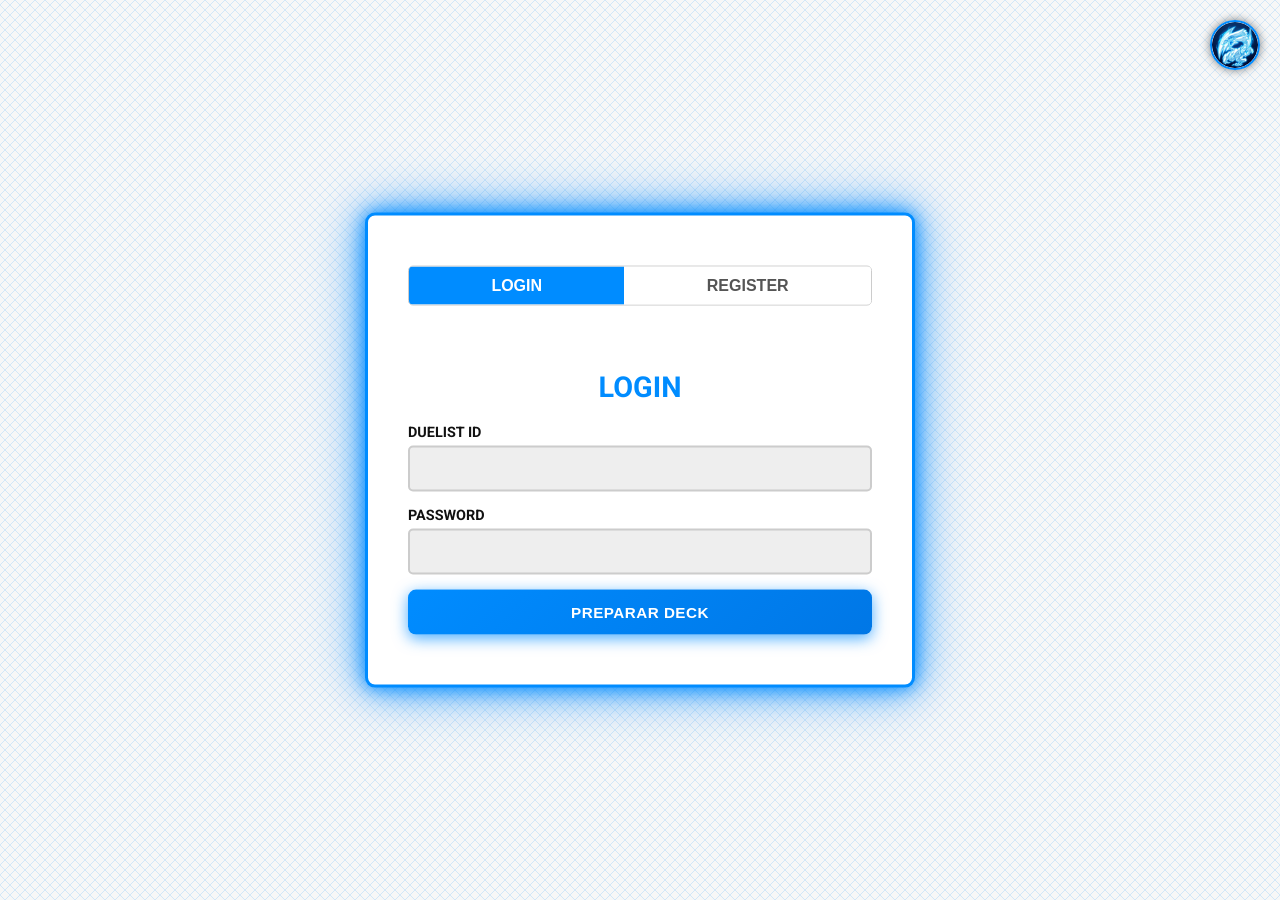
Scenario: AuthPage Component › deve validar senha mínima no registro
The width and height of the screenshot is (1280, 900).
Click the button "REGISTER": (748, 286) x1=624 y1=267 x2=871 y2=305
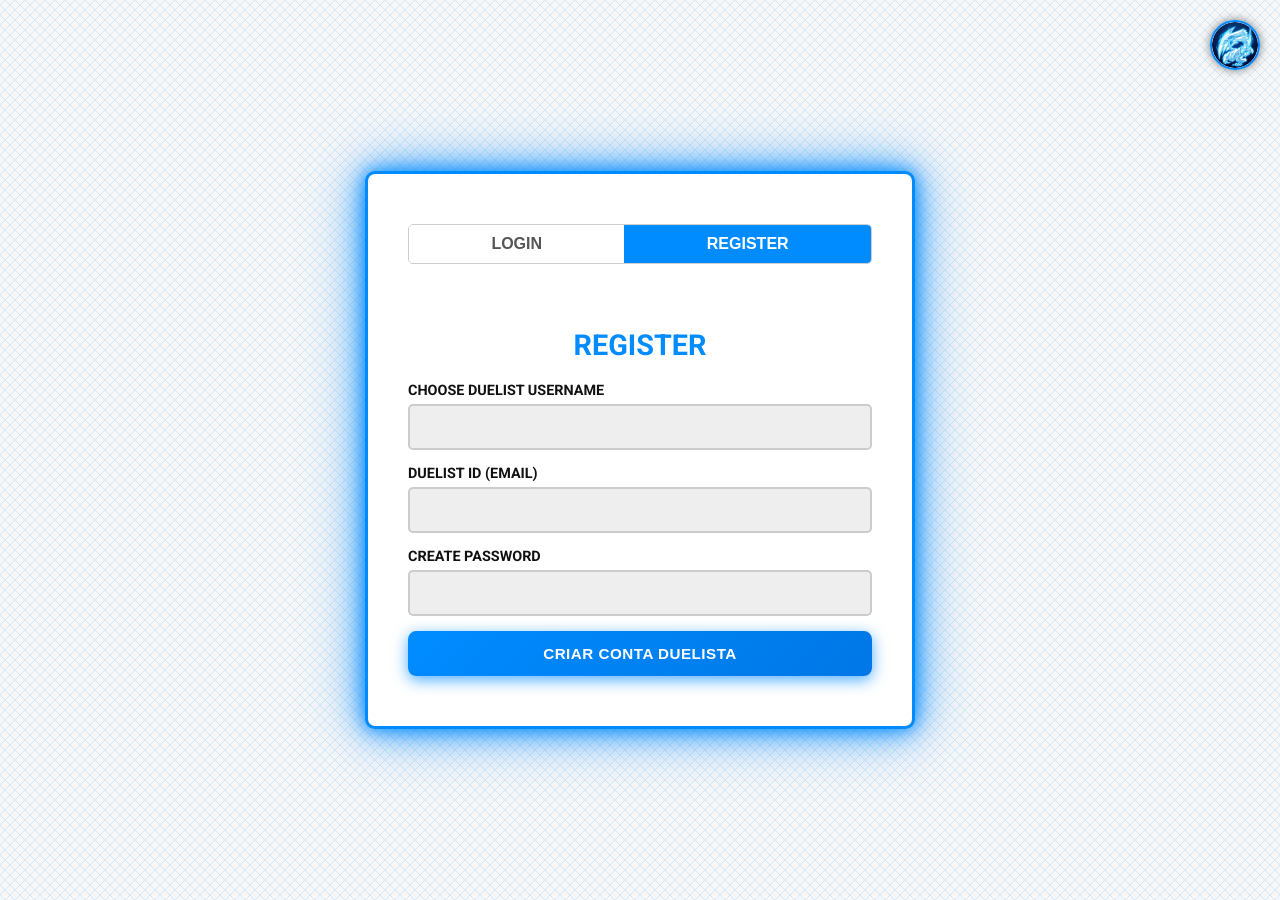
In the field labelled "CHOOSE DUELIST USERNAME": (640, 427) x1=408 y1=404 x2=872 y2=450, type "newuser"
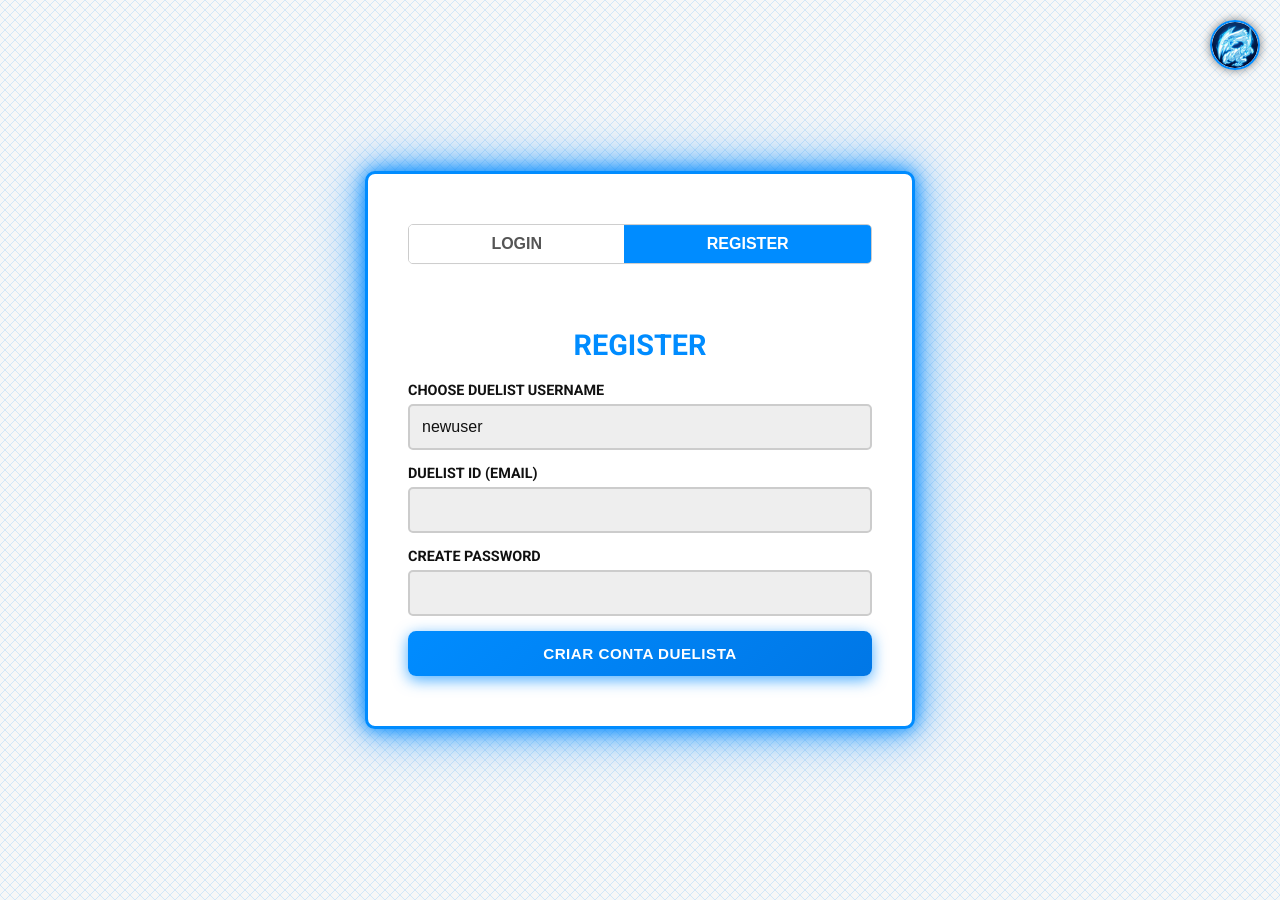
In the field labelled "DUELIST ID (EMAIL)": (640, 510) x1=408 y1=487 x2=872 y2=533, type "new@email.com"
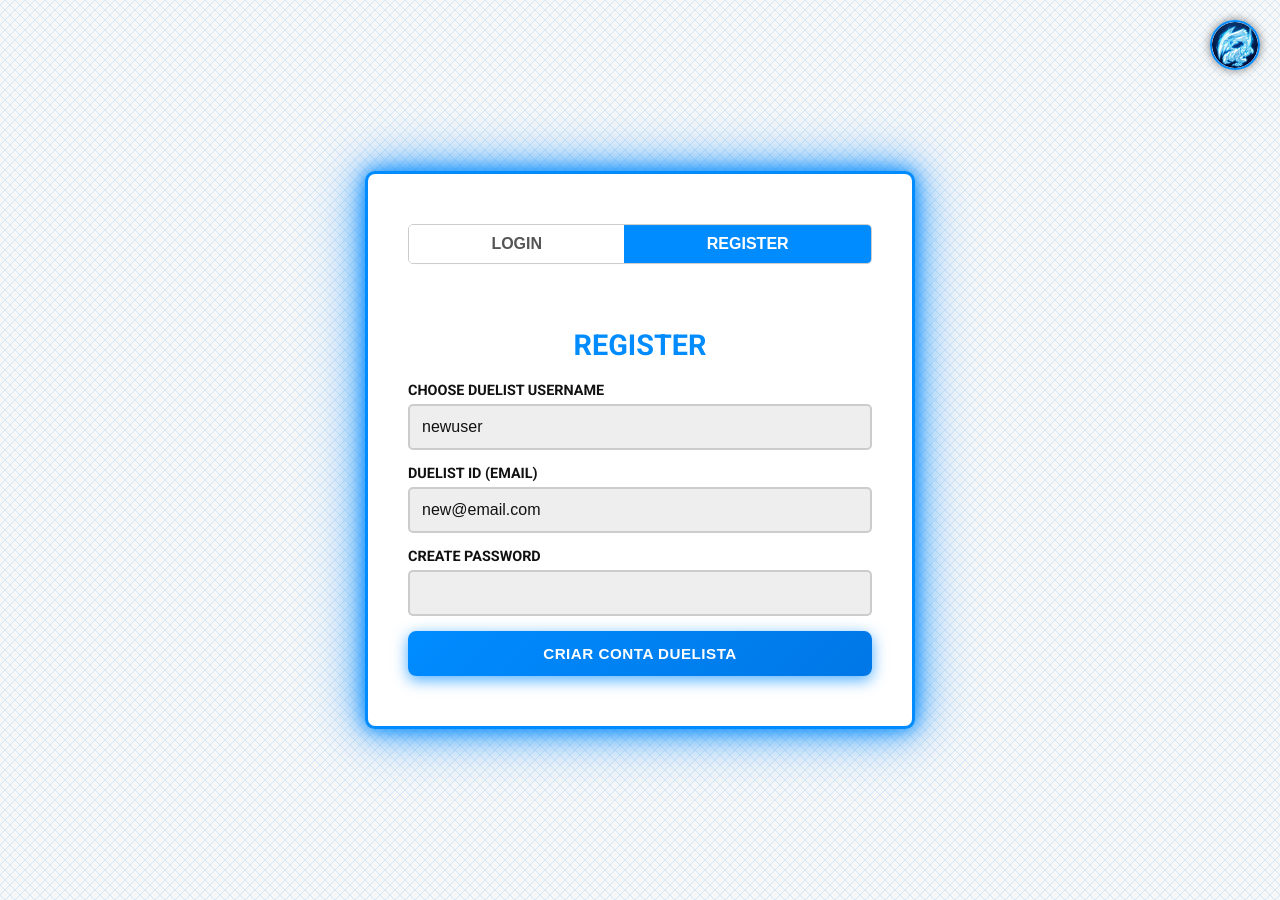
In the password field labelled "CREATE PASSWORD": (640, 593) x1=408 y1=570 x2=872 y2=616, type "12345"
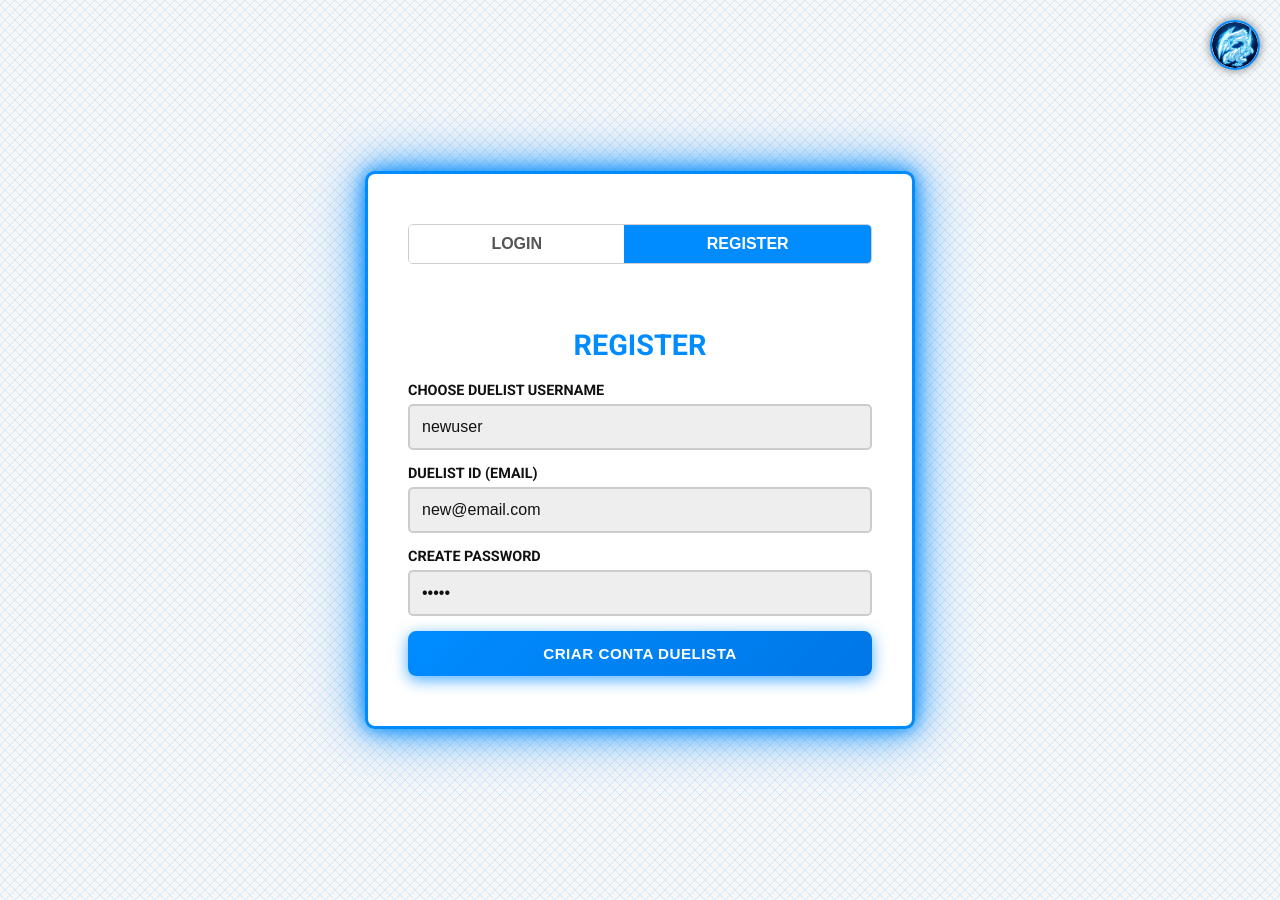
Click the button "CRIAR CONTA DUELISTA": (640, 653) x1=408 y1=631 x2=872 y2=676
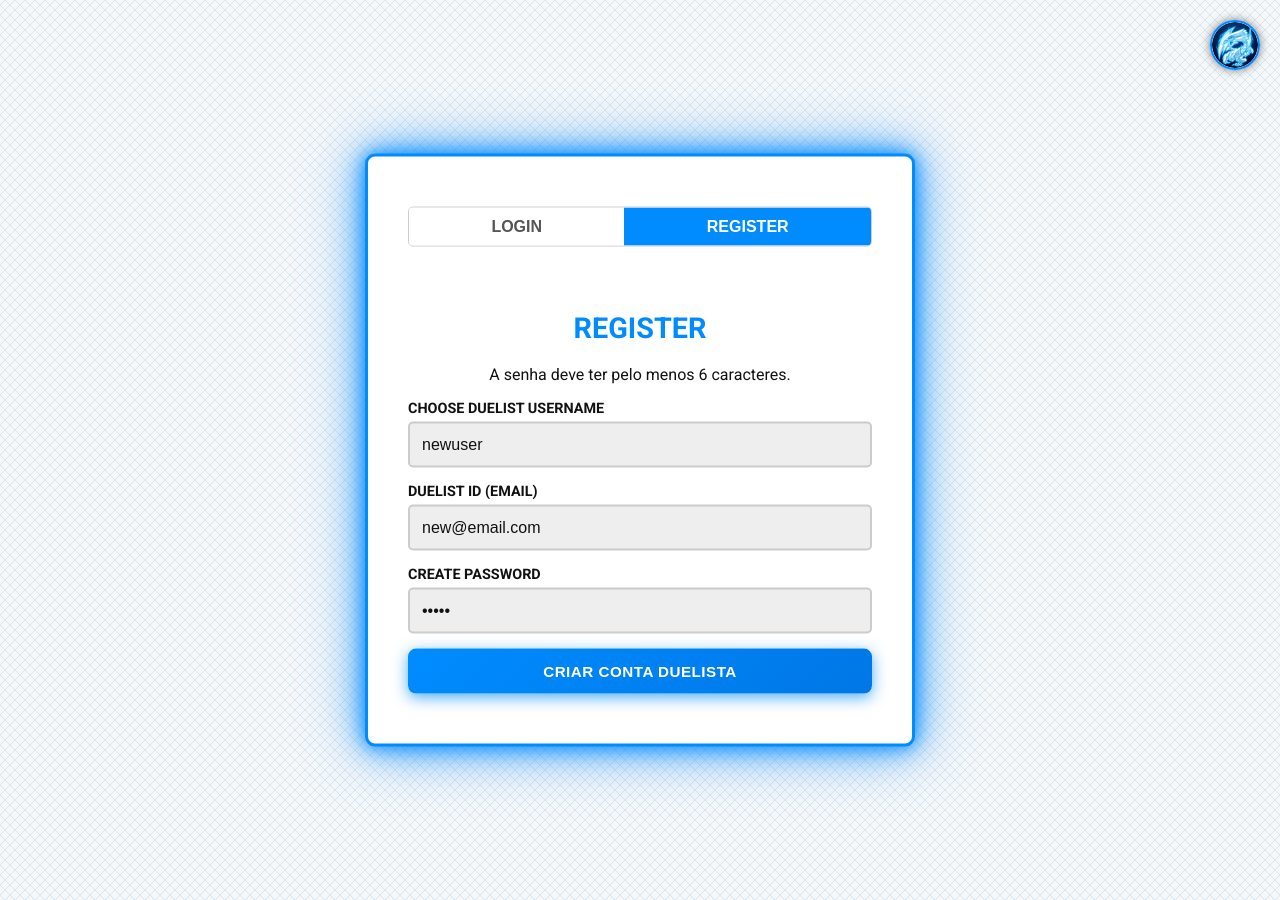
Expected: the text "A senha deve ter pelo menos 6 caracteres." is shown, x1=489 y1=364 x2=791 y2=383
